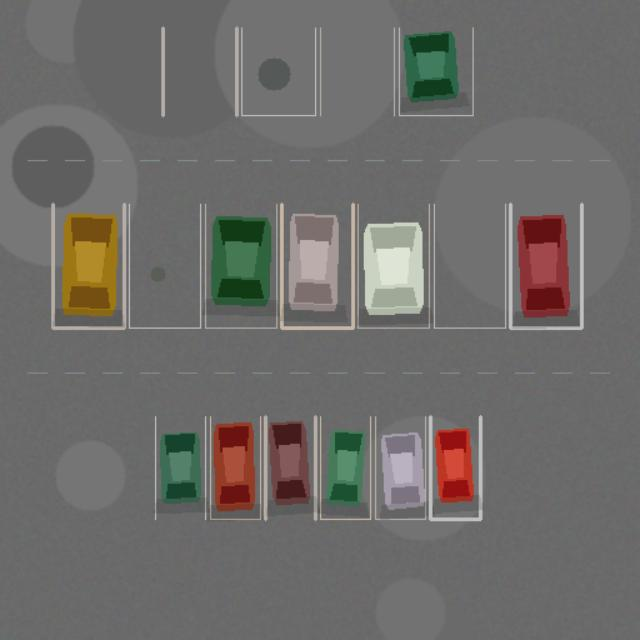space-empty: (129, 204, 200, 327), (434, 204, 505, 327), (162, 27, 236, 115), (241, 27, 315, 115), (320, 27, 394, 115)
space-occupied: (52, 204, 124, 327), (205, 204, 276, 327), (281, 204, 352, 327), (358, 204, 429, 327), (510, 204, 581, 327), (399, 27, 472, 115), (155, 416, 205, 519), (210, 416, 260, 519), (265, 416, 315, 519), (320, 416, 370, 519), (375, 416, 425, 519), (430, 416, 480, 519)
